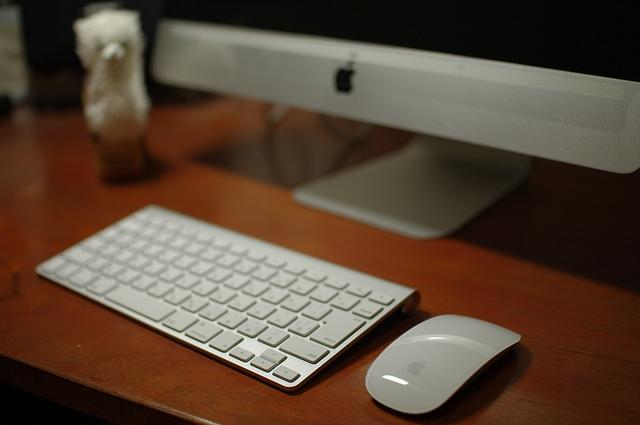apple: (336, 68, 354, 92)
